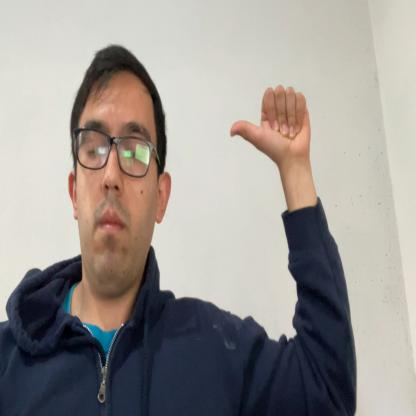A: (230, 85, 311, 160)
